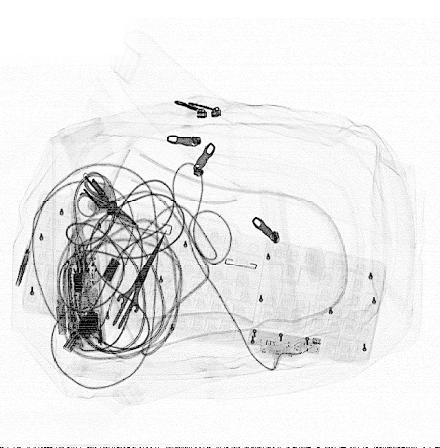Scissors: (98, 228, 167, 350)
